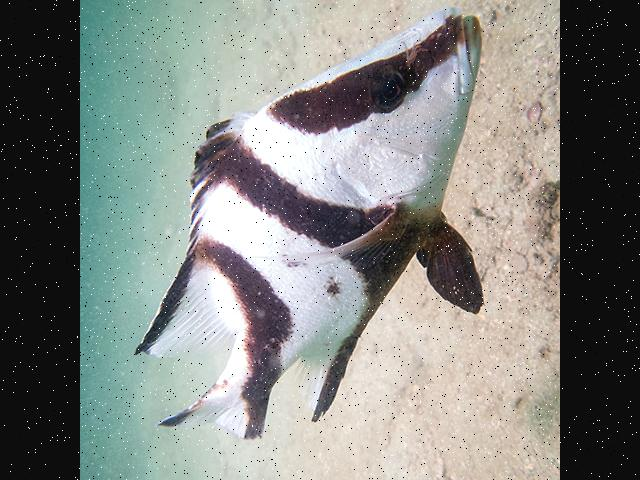Mulut: (415, 0, 507, 114)
Sirip Anal: (282, 324, 366, 444)
Sirip Dada: (265, 187, 425, 297)
Sirip Ekor: (148, 364, 278, 451)
Sirip Perut: (410, 198, 494, 340)
Sirip Punggung: (122, 106, 260, 372)
